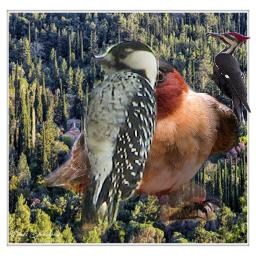Swallow: (43, 58, 239, 221)
Woodpecker: (81, 39, 159, 231), (203, 32, 252, 126)
